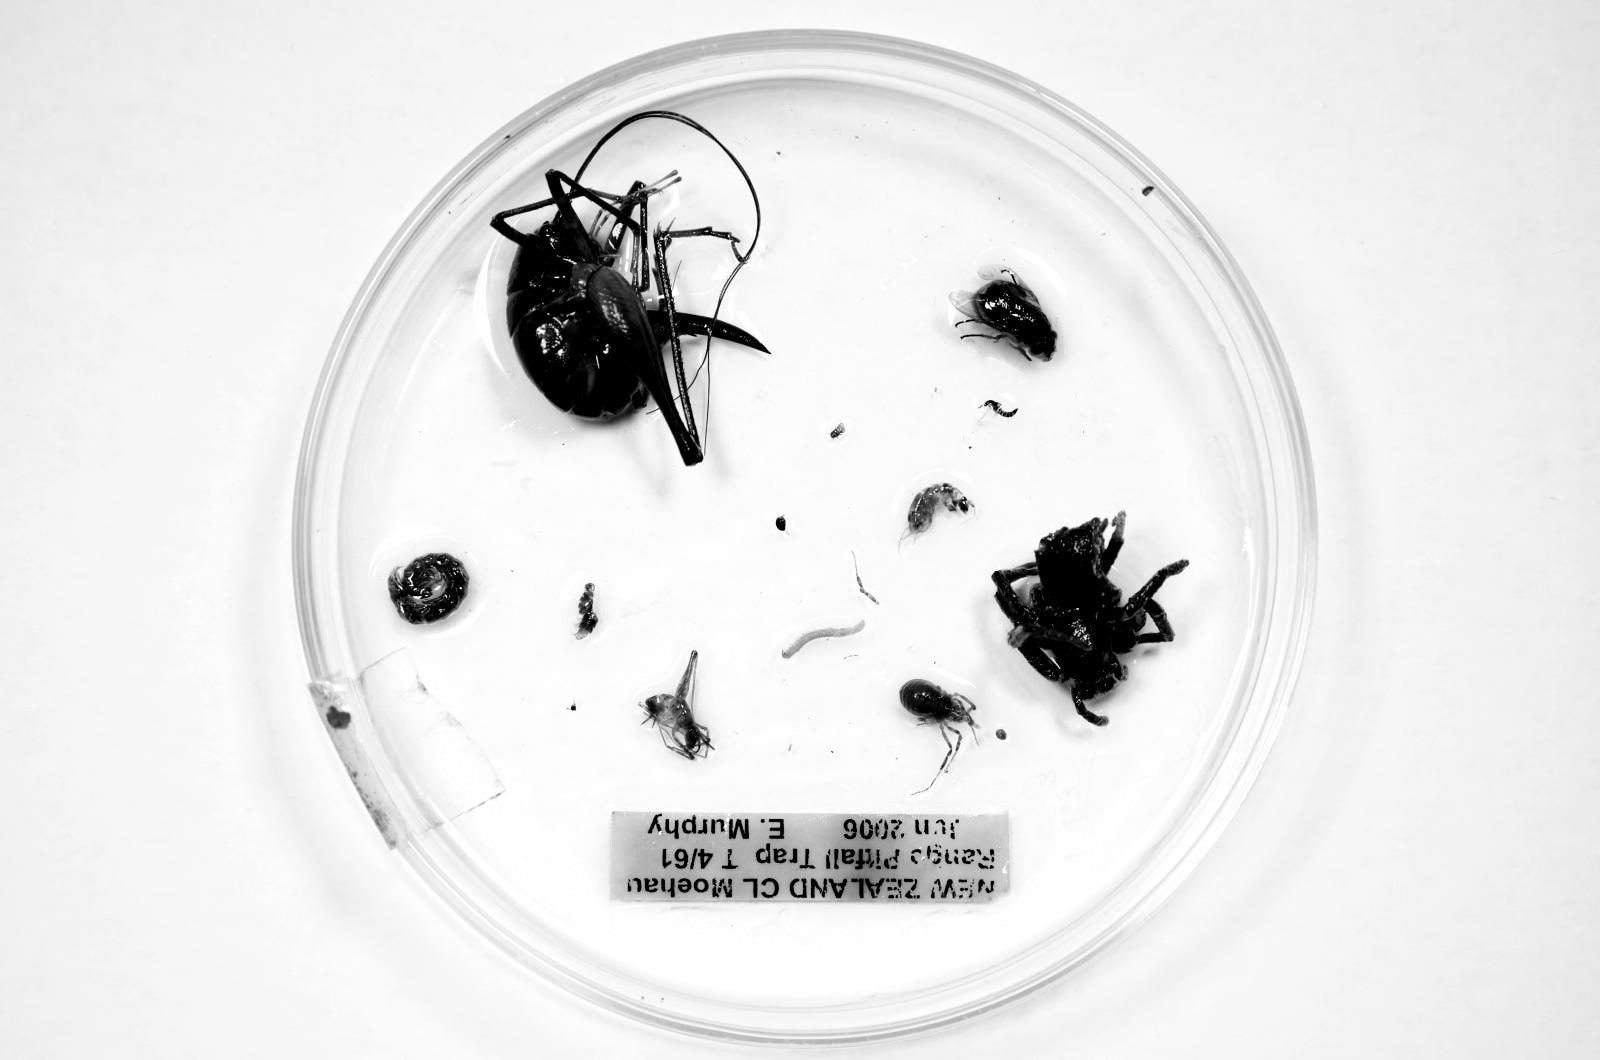amphipoda: (902, 483, 974, 539)
araneae: (991, 511, 1188, 725)
coleoptera: (983, 399, 1017, 419)
diplopoda: (783, 620, 866, 658)
diptera: (950, 264, 1057, 361), (388, 554, 468, 623)
opiliones: (899, 679, 979, 774)
orthoptera: (491, 170, 767, 466), (640, 651, 713, 760)
